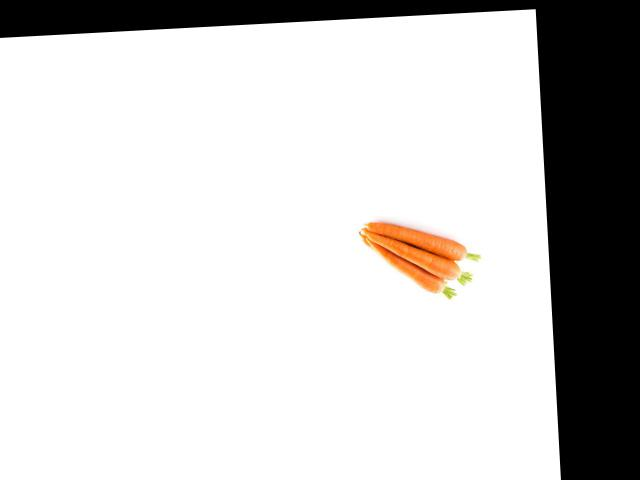carrot: (367, 214, 476, 267)
